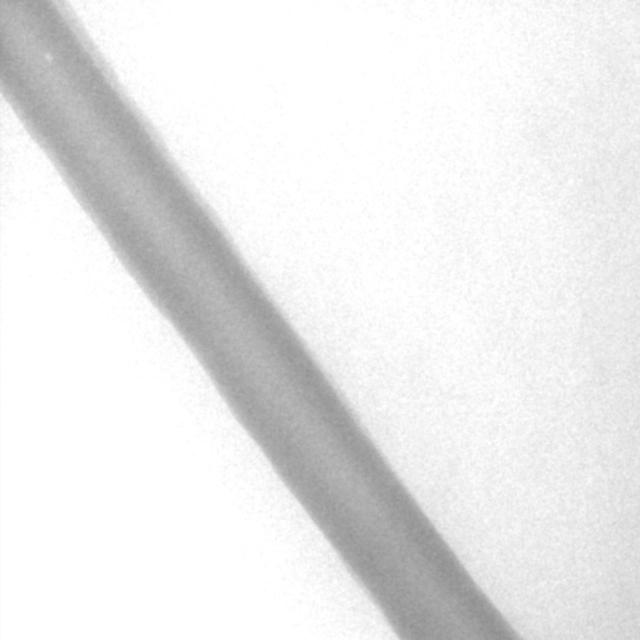air hole: (41, 51, 55, 64)
